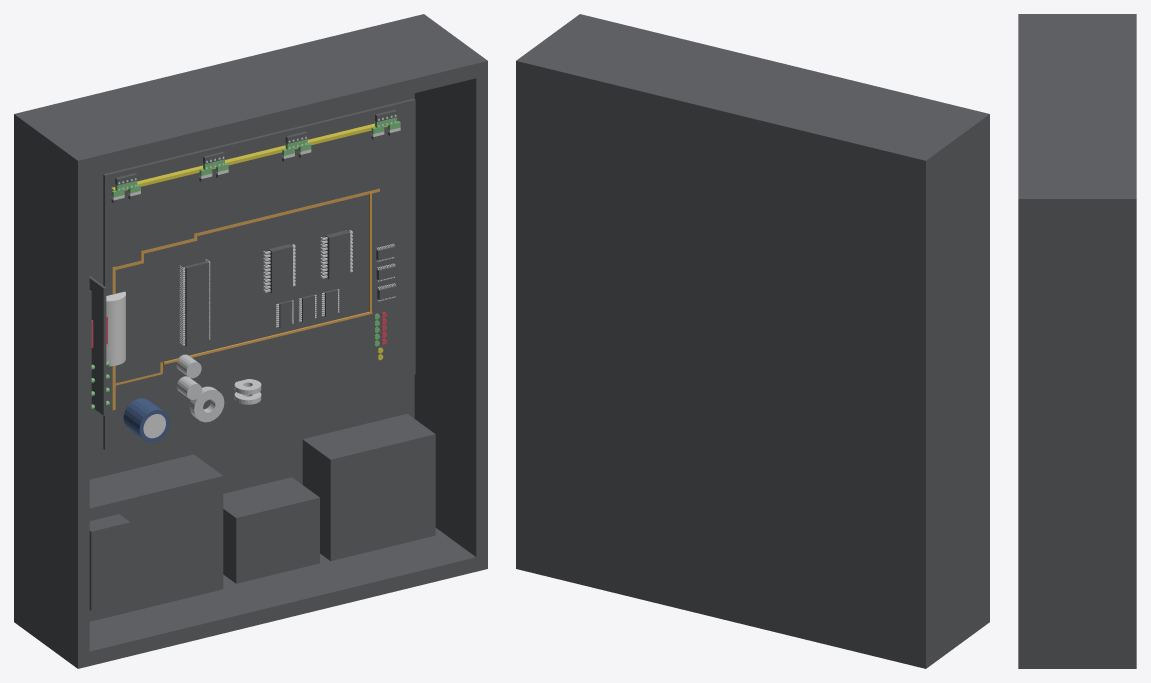
Rendered from Door Controller sm - Hirsch.glb.
The picture shows the model from 3 angles, left to right: view 1: azimuth 30°, elevation 25°; view 2: azimuth 150°, elevation 25°; view 3: azimuth 270°, elevation 25°; orthographic projection. The views are drawn at different scales.
Visible parts, largest first — view 1: Mesh_Mesh_head_geo.001_lambert2SG.001; view 2: Mesh_Mesh_head_geo.001_lambert2SG.001; view 3: Mesh_Mesh_head_geo.001_lambert2SG.001.
Part boxes in pixels (x1,y1,x2,y2): Mesh_Mesh_head_geo.001_lambert2SG.001: (14,14,487,668); Mesh_Mesh_head_geo.001_lambert2SG.001: (516,14,989,668); Mesh_Mesh_head_geo.001_lambert2SG.001: (1018,14,1136,668).
Size of the model in its own units: 386 by 457 by 104.
